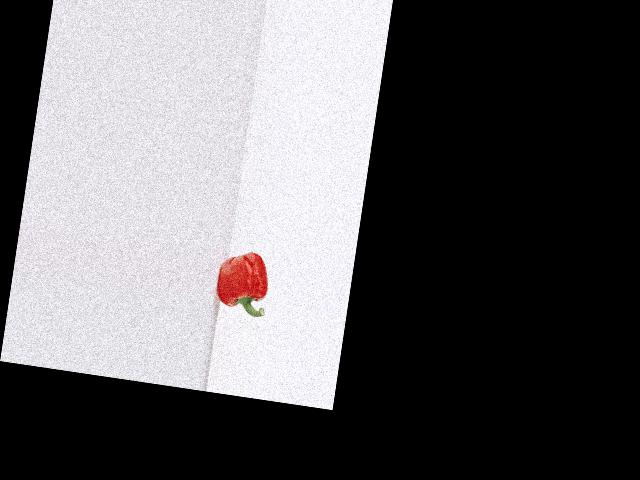bell_pepper: (210, 244, 275, 324)
